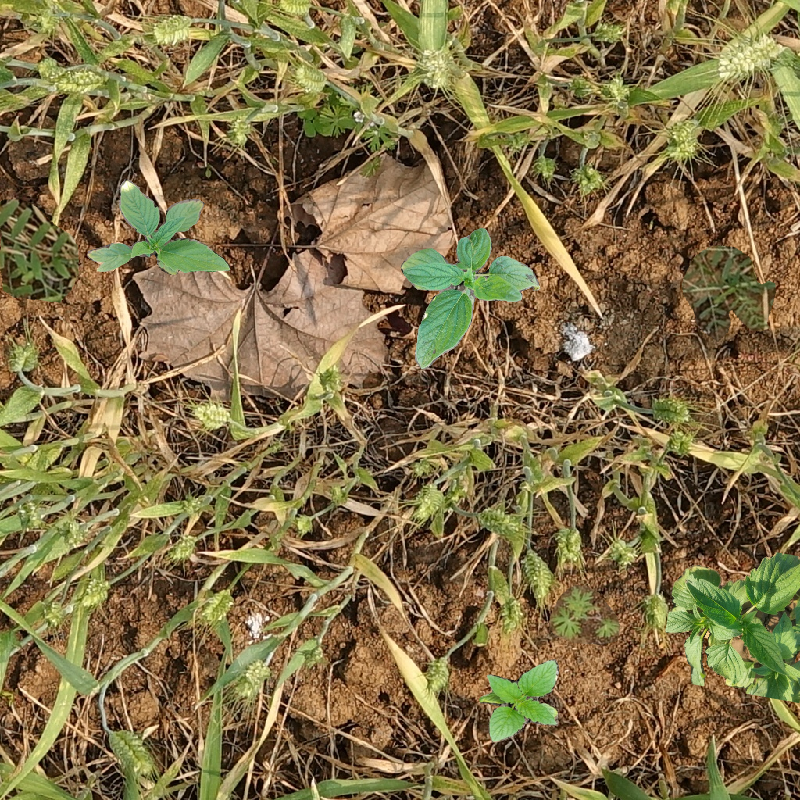spikelet: (716, 34, 782, 81), (110, 727, 157, 776), (476, 505, 528, 543), (519, 546, 553, 602), (51, 63, 108, 95), (230, 658, 271, 701), (418, 45, 457, 90), (664, 116, 702, 161), (585, 372, 626, 411), (151, 12, 193, 45), (199, 587, 234, 624), (412, 482, 445, 521), (190, 400, 232, 430), (554, 525, 584, 565), (6, 339, 40, 374), (315, 363, 346, 401), (651, 394, 691, 423), (292, 61, 328, 93), (570, 163, 605, 195), (497, 591, 524, 632), (78, 577, 112, 609), (424, 654, 451, 694), (15, 494, 44, 530), (606, 537, 639, 568), (225, 112, 254, 147), (602, 75, 632, 108), (641, 591, 669, 626), (167, 533, 198, 563), (665, 428, 696, 457), (591, 18, 625, 43), (567, 73, 596, 99), (180, 492, 208, 518), (42, 601, 67, 627), (276, 1, 313, 16)
weed: (664, 552, 800, 704), (403, 224, 541, 370), (84, 179, 225, 281), (1, 195, 90, 308), (682, 250, 775, 344), (479, 659, 559, 743), (321, 100, 402, 171), (549, 585, 620, 645)
